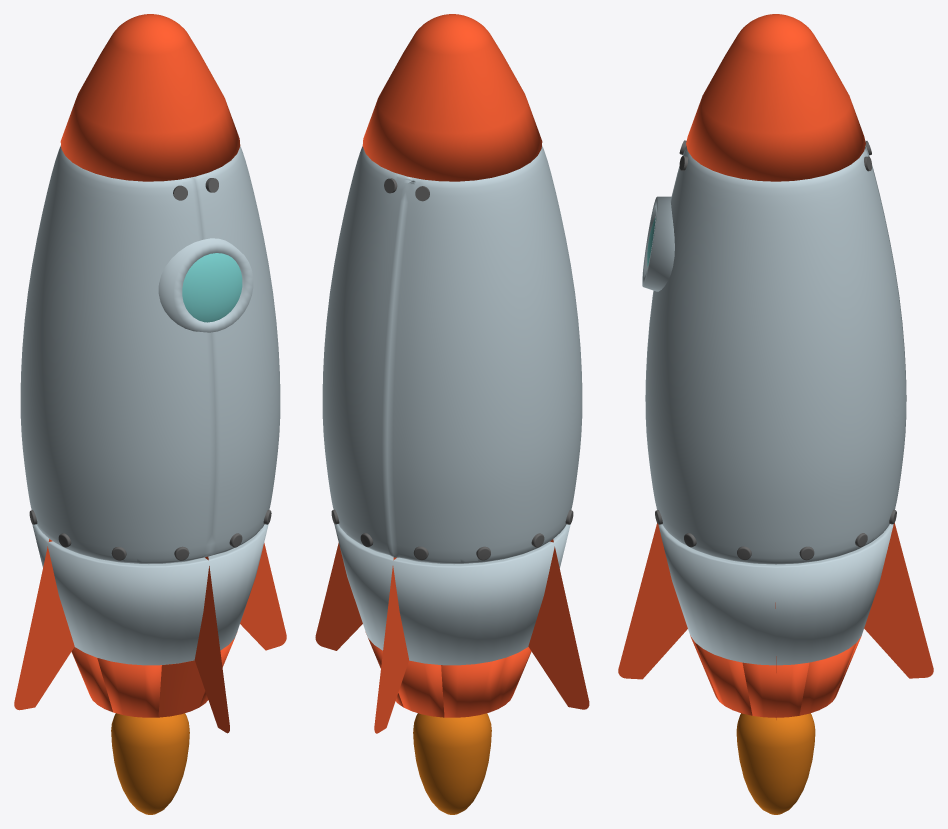
File: rocket-2.glb
The picture shows the model from 3 angles, left to right: view 1: azimuth 30°, elevation 25°; view 2: azimuth 150°, elevation 25°; view 3: azimuth 270°, elevation 25°; orthographic projection.
Visible parts, largest first — view 1: Cylinder, Cylinder.001, Cylinder.002, Sphere, Plane.002, Cylinder.012, Roundcube, Cylinder.020, Plane.003, Plane, Cylinder.019, Cylinder.021; view 2: Cylinder, Cylinder.001, Cylinder.002, Sphere, Plane.002, Cylinder.022, Plane.001, Plane, Cylinder.015, Cylinder.021; view 3: Cylinder, Cylinder.001, Cylinder.002, Sphere, Plane.003, Plane.001, Cylinder.017, Cylinder.012, Cylinder.016, Cylinder.018.
Part boxes in pixels (x1,y1,x2,y2): Cylinder: [20, 145, 280, 564]; Cylinder.001: [60, 14, 240, 181]; Cylinder.002: [32, 524, 268, 665]; Sphere: [111, 713, 189, 814]; Plane.002: [14, 539, 74, 710]; Cylinder.012: [158, 238, 253, 332]; Roundcube: [182, 253, 242, 322]; Cylinder.020: [97, 658, 161, 717]; Plane.003: [194, 556, 229, 733]; Plane: [240, 543, 286, 650]; Cylinder.019: [158, 660, 205, 717]; Cylinder.021: [71, 647, 112, 712]; Cylinder: [322, 145, 582, 564]; Cylinder.001: [362, 14, 542, 181]; Cylinder.002: [334, 524, 570, 665]; Sphere: [413, 713, 491, 814]; Plane.002: [528, 539, 589, 709]; Cylinder.022: [441, 658, 505, 717]; Plane.001: [374, 557, 408, 733]; Plane: [315, 543, 362, 650]; Cylinder.015: [398, 660, 444, 717]; Cylinder.021: [490, 647, 531, 712]; Cylinder: [645, 146, 906, 564]; Cylinder.001: [686, 14, 865, 181]; Cylinder.002: [658, 524, 893, 665]; Sphere: [736, 713, 815, 814]; Plane.003: [618, 523, 687, 679]; Plane.001: [864, 523, 933, 678]; Cylinder.017: [742, 662, 809, 717]; Cylinder.012: [642, 196, 674, 291]; Cylinder.016: [799, 643, 856, 715]; Cylinder.018: [695, 643, 752, 715].
Bounding box in the file's own units: 1.8 × 5.02 × 1.8.
